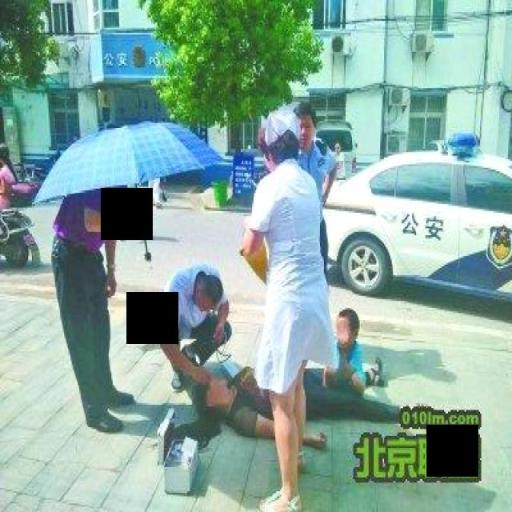Fall: (175, 332, 440, 457)
